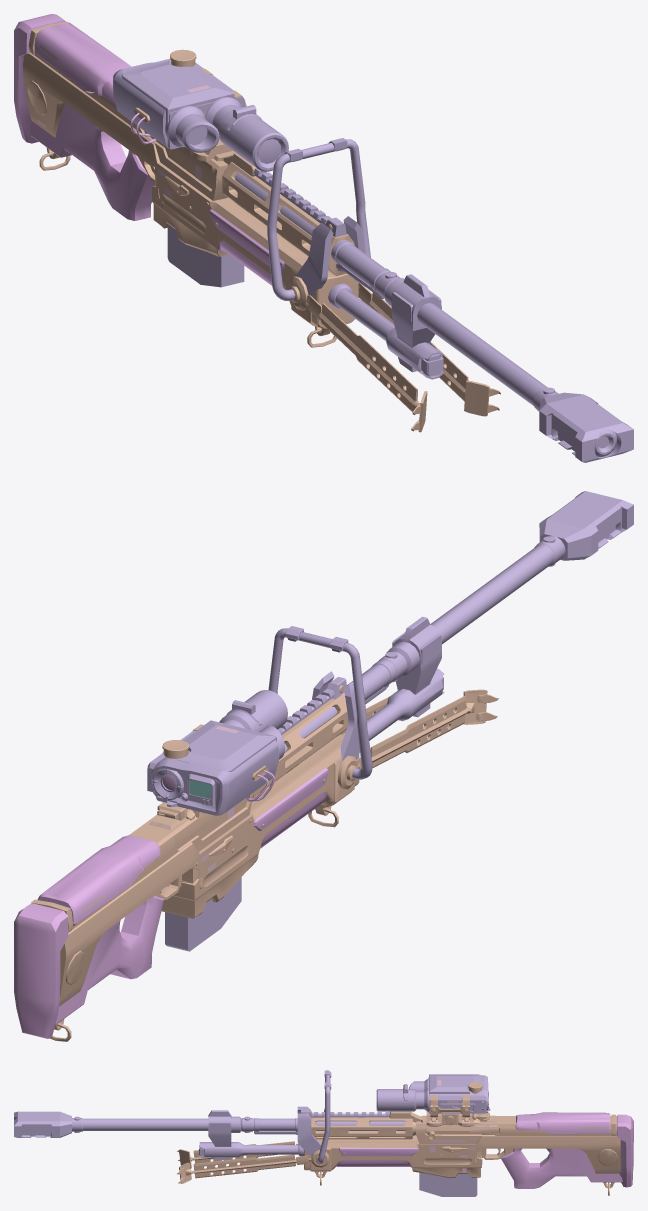
File: SRS99-S5 AM.fbx
3 renders of one model, top to bottom at view 1: azimuth 30°, elevation 25°; view 2: azimuth 150°, elevation 25°; view 3: azimuth 270°, elevation 25°, orthographic. The views are drawn at different scales.
Parts seen in each view (by area): view 1: v_srs99s4am_srs_body.005, v_srs99s4am_srs_body.002, v_srs99s4am_srs_body.004; view 2: v_srs99s4am_srs_body.005, v_srs99s4am_srs_body.002, v_srs99s4am_srs_body.004; view 3: v_srs99s4am_srs_body.002, v_srs99s4am_srs_body.005, v_srs99s4am_srs_body.004, v_srs99s4am_srs_body.003.
Part boxes in pixels (x1,y1,x2,y2): v_srs99s4am_srs_body.005: (113, 59, 633, 462); v_srs99s4am_srs_body.002: (23, 21, 500, 432); v_srs99s4am_srs_body.004: (14, 14, 284, 288); v_srs99s4am_srs_body.005: (147, 491, 633, 951); v_srs99s4am_srs_body.002: (31, 685, 498, 1041); v_srs99s4am_srs_body.004: (14, 768, 328, 1038); v_srs99s4am_srs_body.002: (177, 1082, 620, 1195); v_srs99s4am_srs_body.005: (14, 1070, 490, 1196); v_srs99s4am_srs_body.004: (336, 1112, 633, 1188); v_srs99s4am_srs_body.003: (429, 1080, 612, 1172).
Size of the model in its own units: 525 by 914 by 4442.
